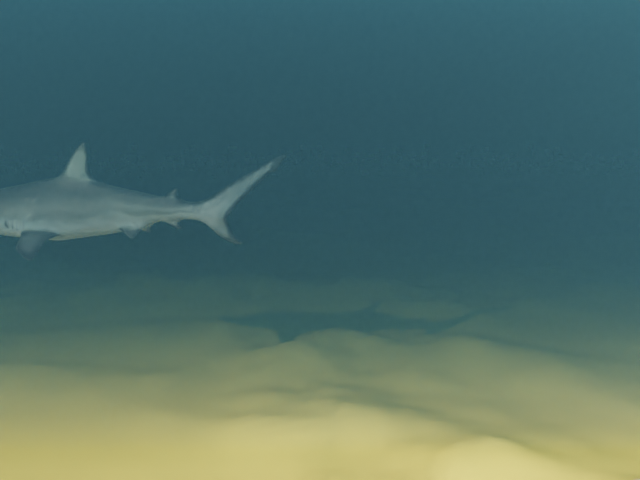Carribean Shark.001: (0, 142, 286, 260)
